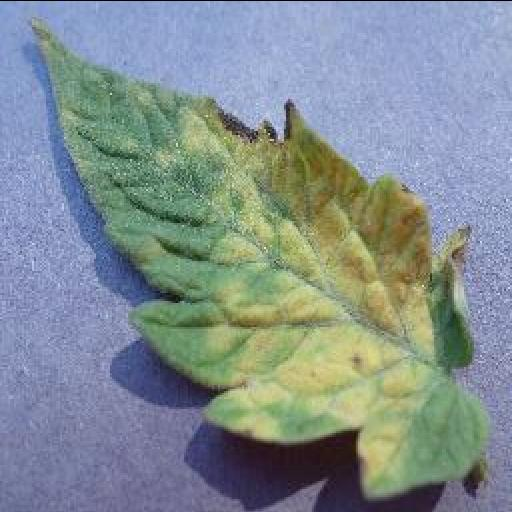disease_tomato: (26, 20, 492, 494)
